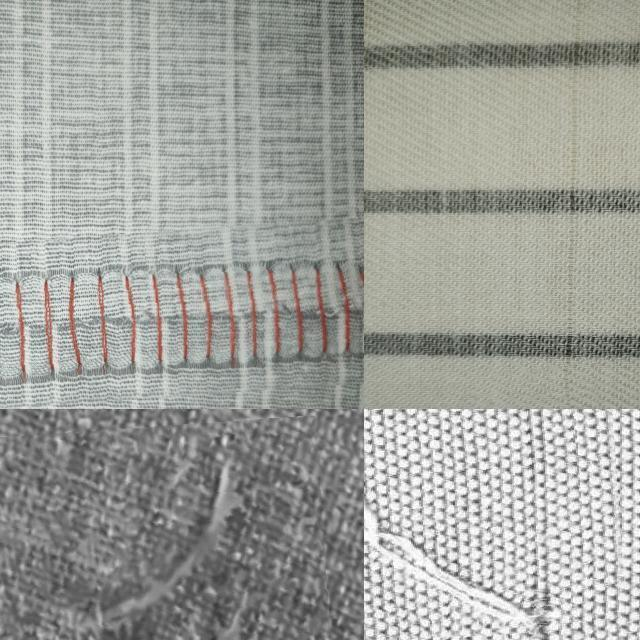Stitch: (0, 227, 364, 409)
Thread_other: (0, 422, 331, 640), (364, 409, 637, 640), (500, 100, 608, 176), (536, 222, 606, 328), (482, 365, 600, 409)
